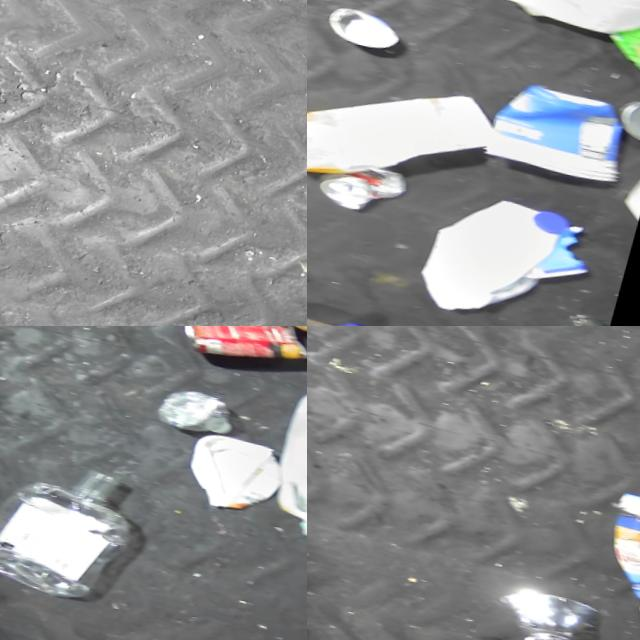can: (499, 577, 617, 640), (320, 148, 422, 219), (170, 326, 307, 371), (324, 0, 419, 51), (616, 83, 640, 138)
milk_jug: (418, 176, 613, 326), (186, 425, 294, 516), (265, 370, 307, 546)
plastic_bottle: (0, 445, 153, 606), (157, 379, 242, 434), (540, 294, 625, 326)
